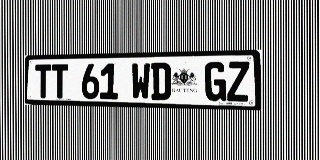1: (100, 63, 118, 99)
6: (82, 64, 99, 99)
D: (151, 62, 171, 100)
G: (205, 62, 226, 101)
T: (35, 64, 51, 98), (52, 64, 68, 98)
W: (131, 63, 150, 100)
Z: (227, 61, 249, 102)
